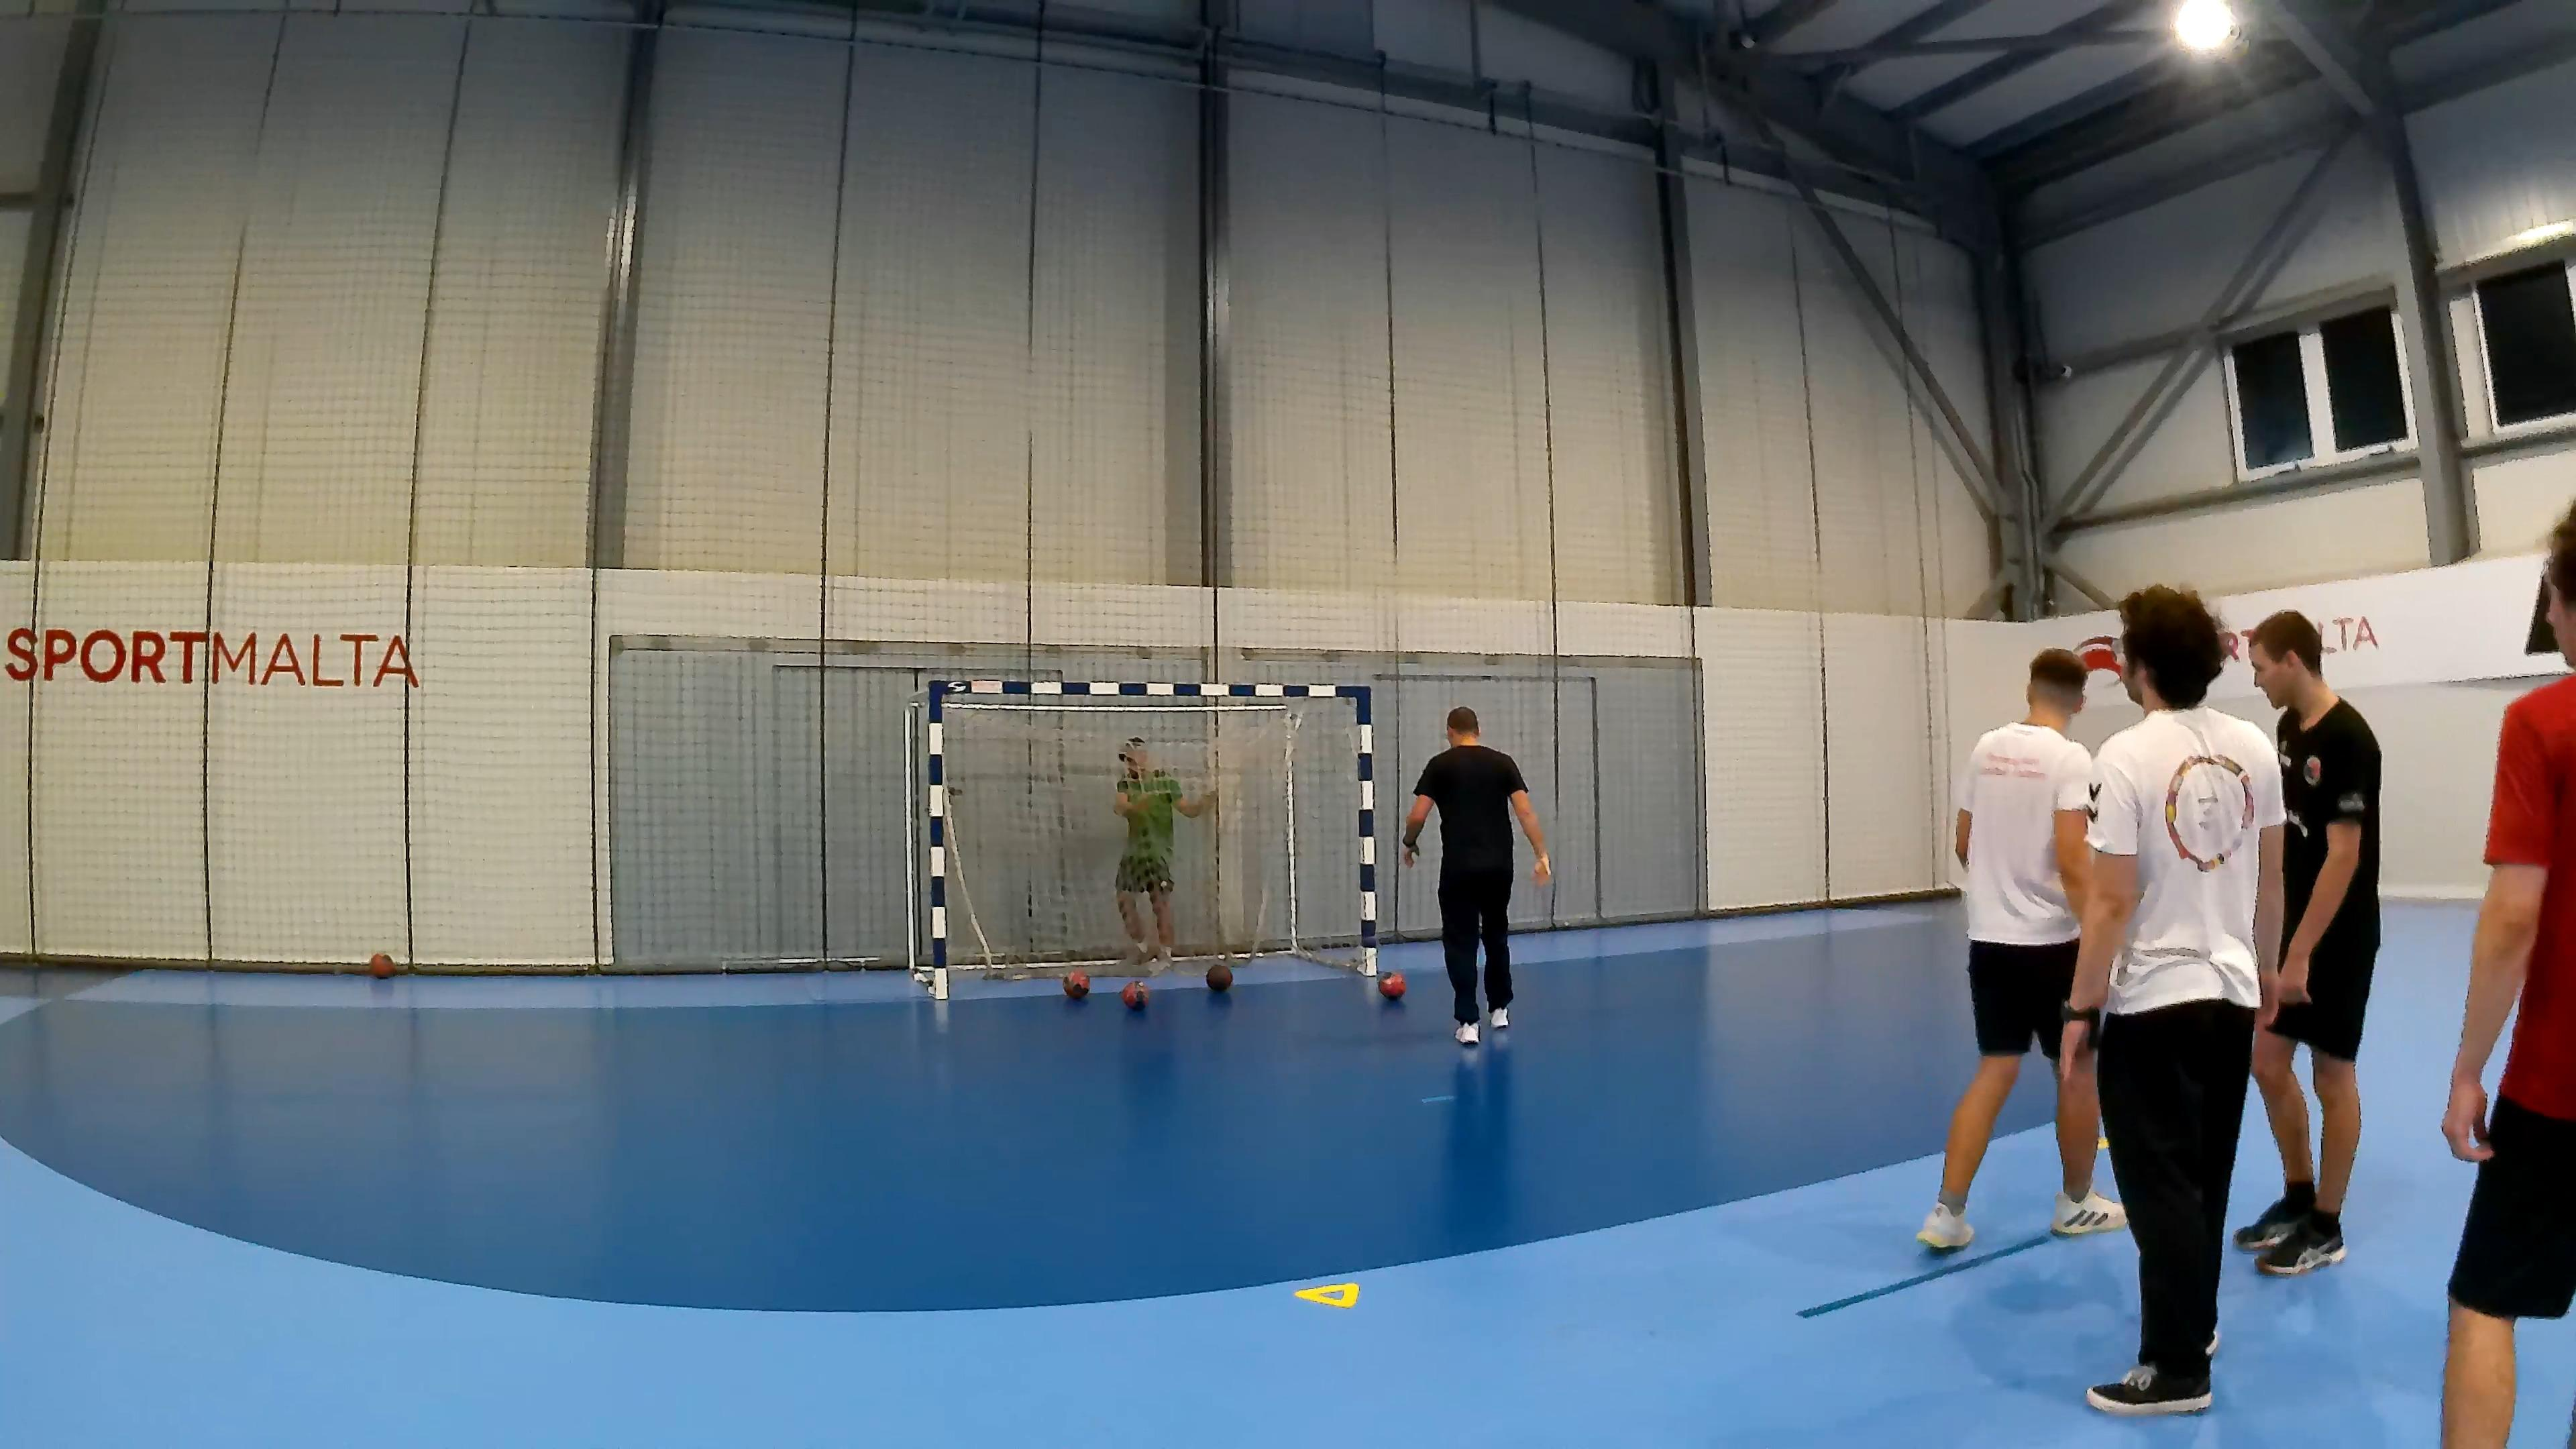handball: (1120, 980, 1148, 1008), (1378, 970, 1405, 1000), (1062, 968, 1088, 998), (1205, 962, 1233, 989), (370, 952, 395, 977)
